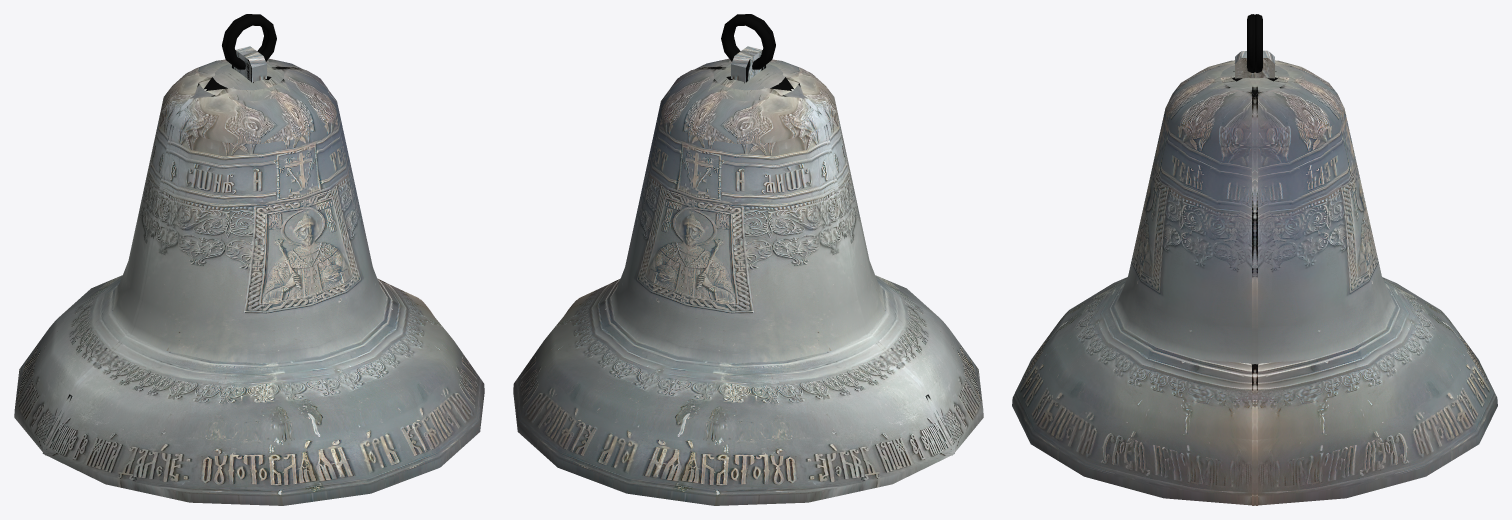
The model's file is Bellnorm.fbx.
3 renders of one model, left to right at view 1: azimuth 30°, elevation 25°; view 2: azimuth 150°, elevation 25°; view 3: azimuth 270°, elevation 25°, orthographic.
Parts seen in each view (by area): view 1: Colocol.002, Colocol.001; view 2: Colocol.001, Colocol.002; view 3: Colocol.001, Colocol.002.
Part boxes in pixels (x1,y1,x2,y2): Colocol.002: (42, 14, 484, 505); Colocol.001: (14, 15, 433, 455); Colocol.001: (513, 14, 954, 505); Colocol.002: (565, 15, 983, 455); Colocol.001: (1232, 14, 1497, 505); Colocol.002: (1012, 14, 1277, 505).
Size of the model in its own units: 1.59 by 1.64 by 1.63.
Materials: 6 (4 with a texture image).
